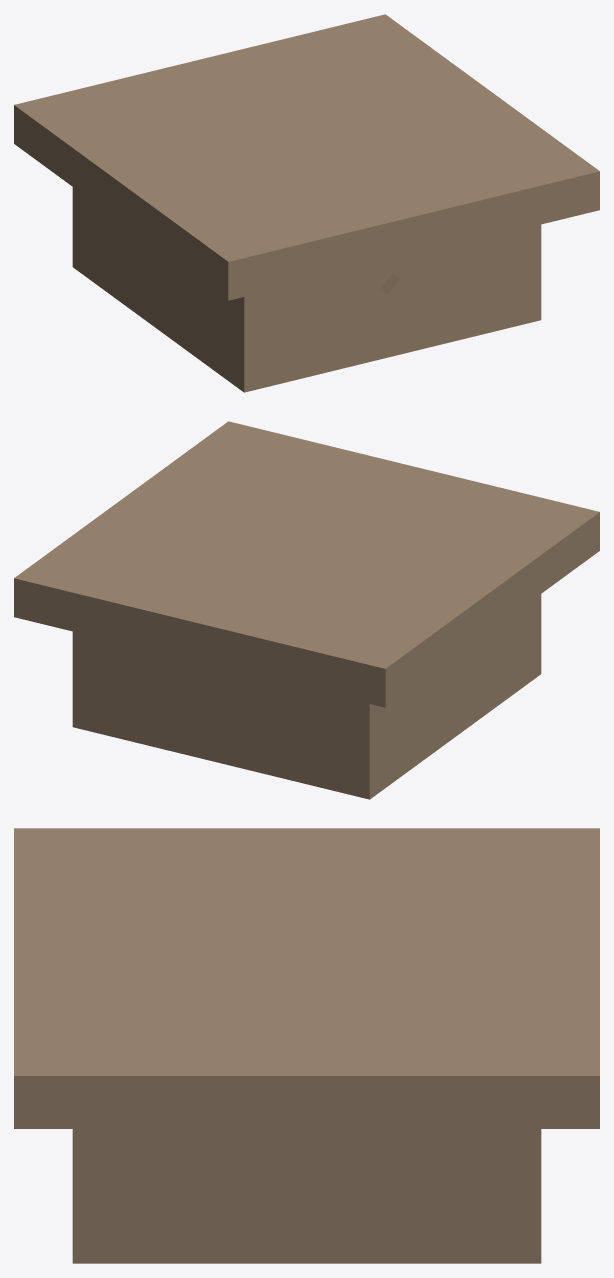
Rendered from Countertop.fbx.
The picture shows the model from 3 angles, top to bottom: view 1: azimuth 30°, elevation 25°; view 2: azimuth 150°, elevation 25°; view 3: azimuth 270°, elevation 25°; orthographic projection. The views are drawn at different scales.
Visible parts, largest first — view 1: Countertop, :Holder; view 2: Countertop; view 3: Countertop.
Boxes of the visible parts, box(x1,y1,x2,y2) form: Countertop: box(14, 14, 599, 392); :Holder: box(380, 273, 412, 305); Countertop: box(14, 421, 599, 799); Countertop: box(14, 828, 599, 1263).
Bounding box in the file's own units: 100 × 40 × 100.
